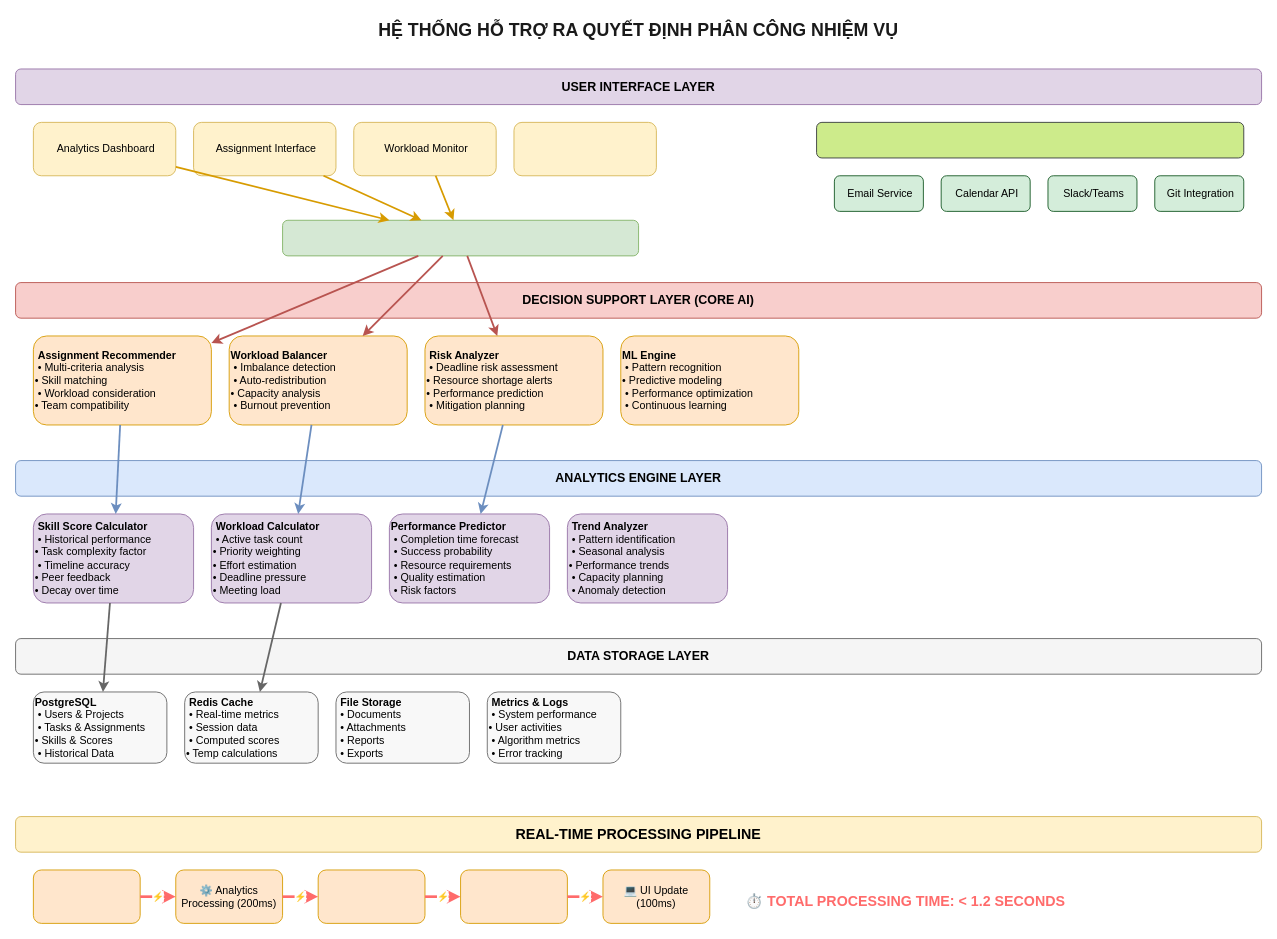
This 1277x939 diagram has some shape labels left out. Each missing label, with the box of its shape:
EXTERNAL INTEGRATIONS: (816, 121, 1244, 158)
Reports & Analytics: (513, 121, 656, 176)
🌐 API GATEWAY: (282, 219, 639, 256)
🎯 Decision Generation (300ms): (460, 869, 567, 923)
📝 User Event (100ms): (32, 869, 140, 923)
🧠 ML Analysis (500ms): (317, 869, 425, 923)
